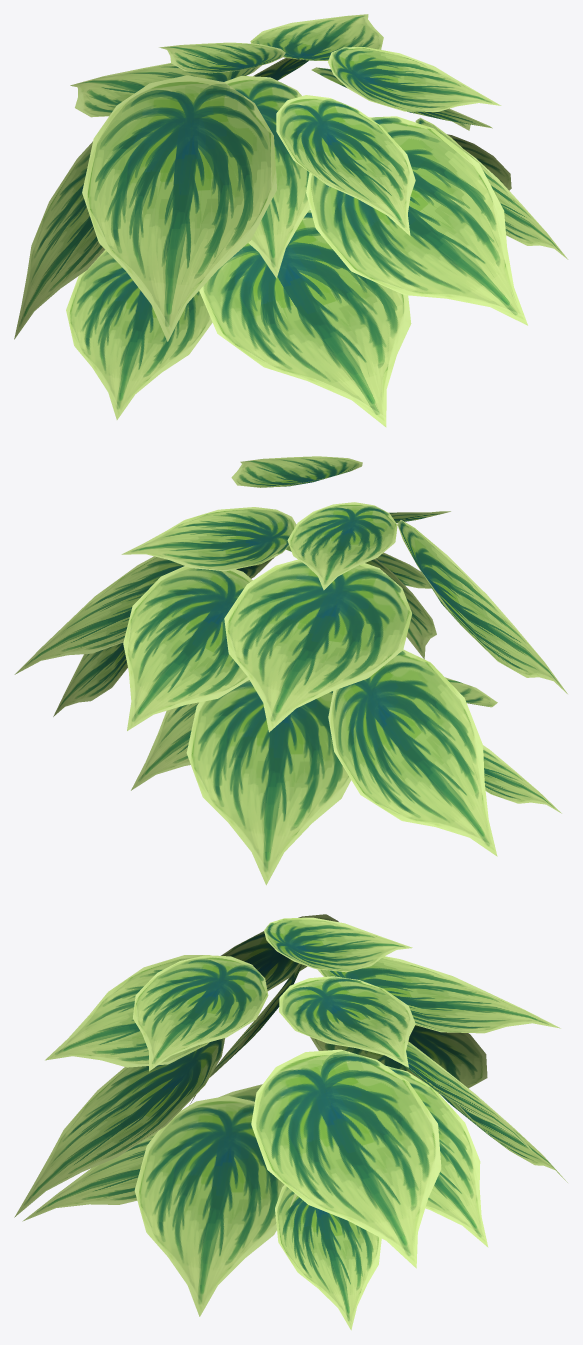
Rendered from mesh_argyreia.fbx.
3 renders of one model, top to bottom at view 1: azimuth 30°, elevation 25°; view 2: azimuth 150°, elevation 25°; view 3: azimuth 270°, elevation 25°, orthographic. The views are drawn at different scales.
Parts seen in each view (by area): view 1: argyreia; view 2: argyreia; view 3: argyreia.
Part boxes in pixels (left/top/right/bottom): argyreia: left=14, top=14, right=568, bottom=427; argyreia: left=14, top=456, right=567, bottom=885; argyreia: left=14, top=914, right=567, bottom=1330.
Bounding box in the file's own units: 0.389 × 0.2328 × 0.3861.
